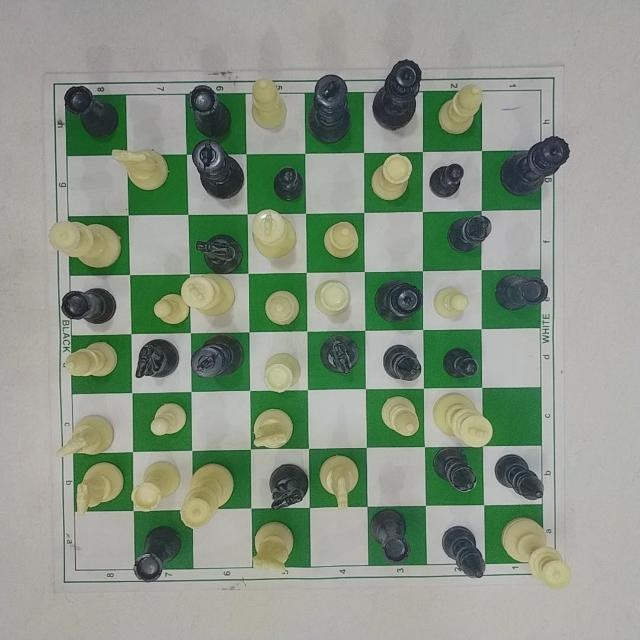black-bishop: (493, 451, 551, 503), (439, 523, 491, 581), (379, 342, 430, 388), (446, 211, 496, 256), (434, 446, 480, 492)
black-king: (307, 72, 357, 143), (190, 140, 248, 200), (190, 333, 248, 380)
black-knight: (264, 458, 316, 512), (190, 231, 246, 275), (133, 335, 183, 383), (316, 332, 364, 379)
black-pawn: (442, 343, 484, 383), (428, 157, 466, 199), (270, 166, 312, 202)
black-queen: (499, 133, 573, 204), (372, 56, 422, 133), (375, 276, 423, 324)
black-rook: (125, 524, 187, 581), (63, 83, 121, 138), (182, 81, 233, 139), (57, 285, 123, 327), (369, 507, 417, 563), (493, 271, 551, 313)
white-bishop: (247, 70, 291, 135), (60, 338, 122, 384), (437, 80, 483, 138), (376, 392, 426, 438), (322, 219, 364, 262), (261, 289, 306, 326)
white-king: (432, 390, 497, 450), (248, 206, 302, 259), (181, 272, 242, 316)
white-knight: (106, 145, 174, 191), (55, 412, 116, 458), (71, 462, 127, 512), (250, 520, 297, 573), (249, 407, 302, 453), (319, 454, 361, 508)
white-pawn: (146, 396, 192, 436), (431, 283, 473, 322), (151, 287, 187, 324)
white-queen: (501, 515, 573, 590), (44, 214, 124, 270), (183, 465, 236, 528)
white-rook: (132, 456, 179, 512), (368, 151, 417, 203), (263, 350, 309, 398), (314, 275, 356, 319)
